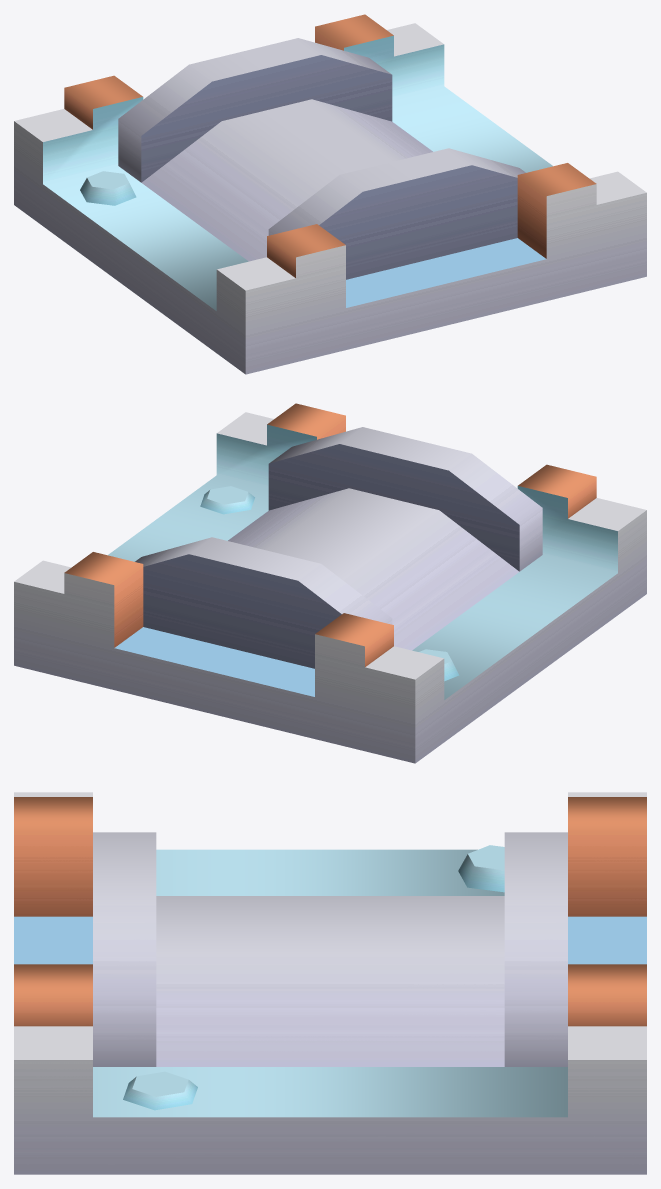
File: snow-tile-river-bridge.glb
3 renders of one model, top to bottom at view 1: azimuth 30°, elevation 25°; view 2: azimuth 150°, elevation 25°; view 3: azimuth 270°, elevation 25°, orthographic. The views are drawn at different scales.
Visible parts, largest first — view 1: snow-tile-river-bridge; view 2: snow-tile-river-bridge; view 3: snow-tile-river-bridge.
Boxes of the visible parts, x1=… form: snow-tile-river-bridge: x1=14, y1=14, x2=646, y2=374; snow-tile-river-bridge: x1=14, y1=403, x2=646, y2=763; snow-tile-river-bridge: x1=14, y1=792, x2=646, y2=1174.
Size of the model in its own units: 1 by 0.3 by 1.
Materials: 1 (1 with a texture image).
